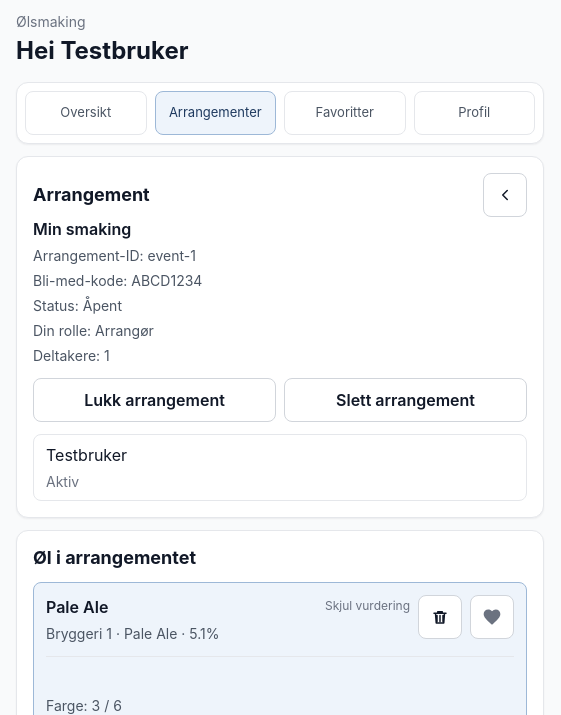
Test: App core flows › shows back button in single-event mode and returns to arrangement list
Check: the button "Vis" is not shown
Step 1. Click the button named "Tilbake til arrangementer" → (505, 195), box x1=483 y1=173 x2=527 y2=217
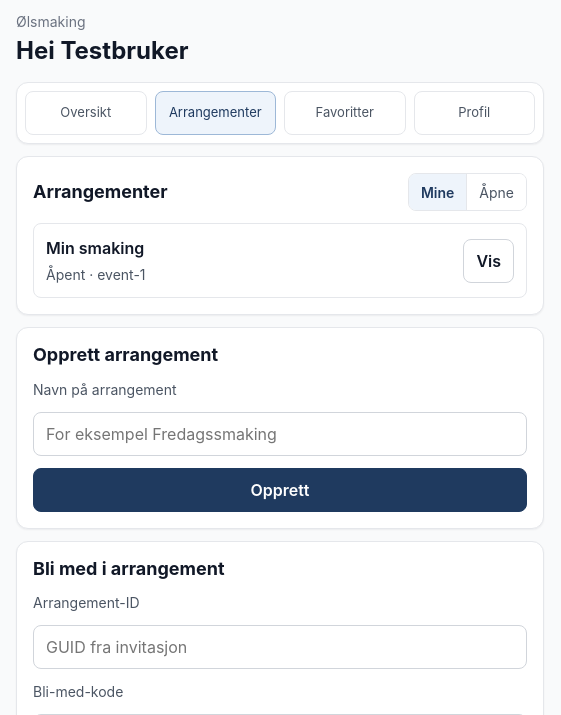
Check: the heading "Arrangementer" is shown, box x1=33 y1=181 x2=168 y2=203
